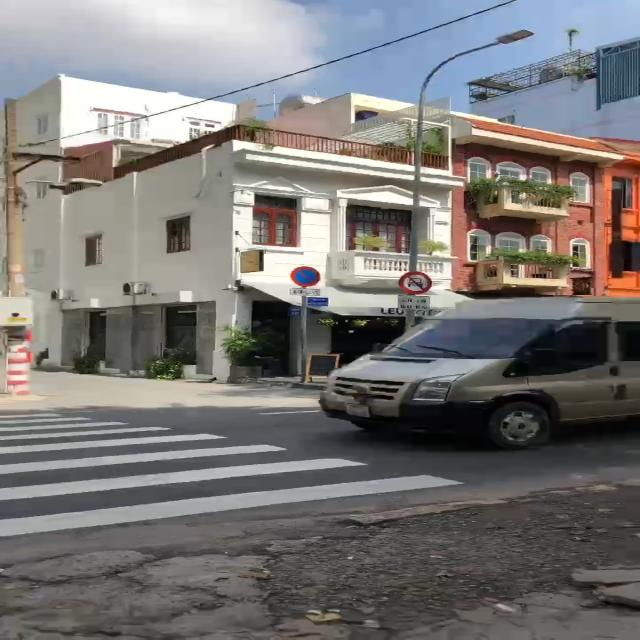Bien bao cam do xe: (289, 264, 323, 288)
Bien bao cam xe oto: (396, 270, 436, 294)
